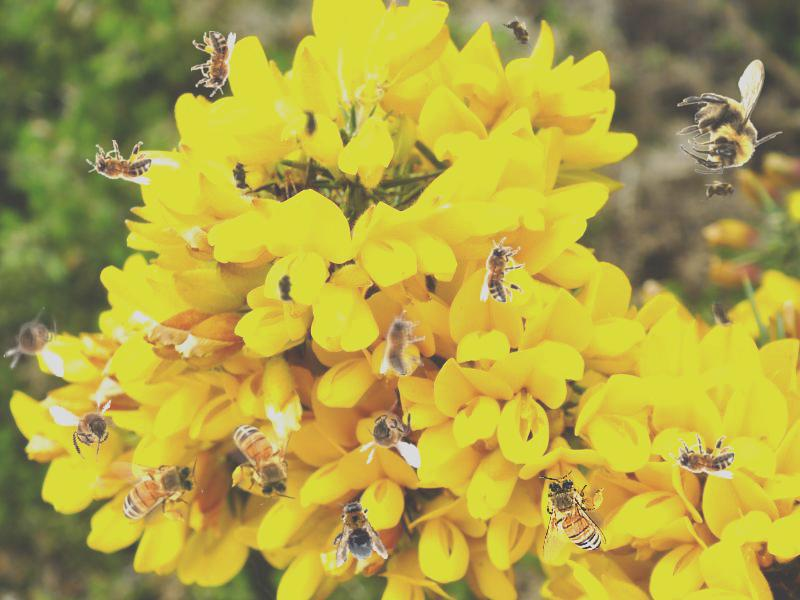Bee: (676, 59, 783, 174), (47, 381, 134, 471), (228, 412, 296, 505), (110, 457, 203, 525), (539, 470, 607, 563), (323, 492, 389, 570), (355, 397, 422, 473), (3, 307, 64, 377), (191, 31, 236, 97), (86, 140, 152, 185), (380, 310, 425, 376), (480, 237, 525, 303), (669, 434, 735, 479), (701, 290, 741, 336), (499, 10, 539, 56), (227, 154, 255, 198), (701, 180, 741, 202), (299, 104, 321, 144), (275, 268, 297, 308)
